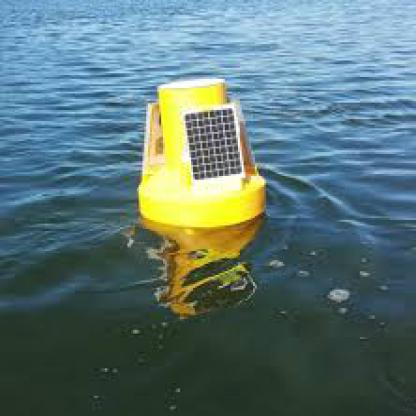buoy: (118, 68, 279, 233)
